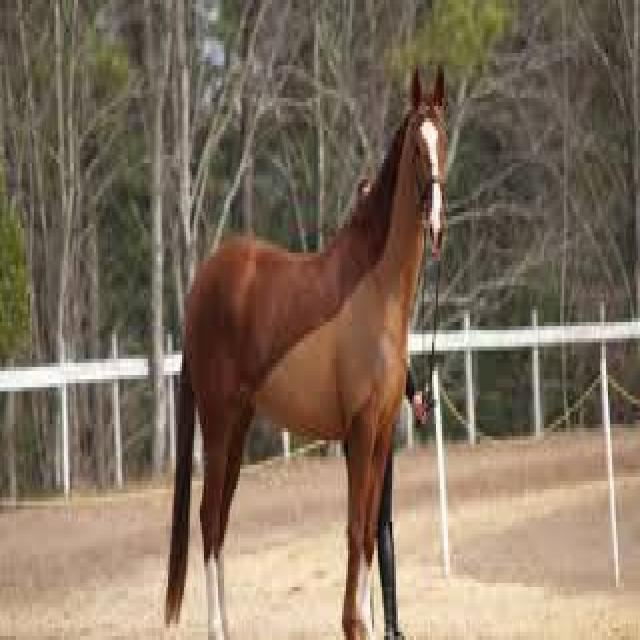Horse: (163, 58, 451, 632)
